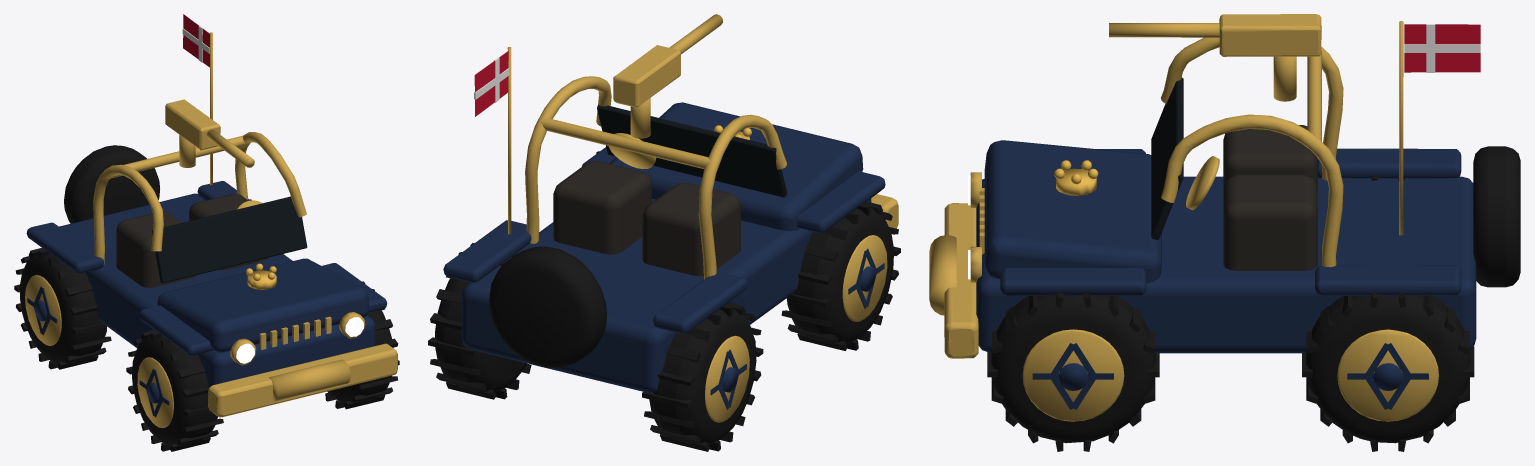
Rendered from jeep_kbh.glb.
3 renders of one model, left to right at view 1: azimuth 30°, elevation 25°; view 2: azimuth 150°, elevation 25°; view 3: azimuth 270°, elevation 25°, orthographic. The views are drawn at different scales.
Parts seen in each view (by area): view 1: krop_net; view 2: krop_net; view 3: krop_net.
Boxes of the visible parts, left/top/right/bottom form: krop_net: left=14, top=14, right=399, bottom=451; krop_net: left=428, top=14, right=900, bottom=451; krop_net: left=929, top=14, right=1520, bottom=451.
Size of the model in its own units: 1.04 by 1.28 by 1.71.
